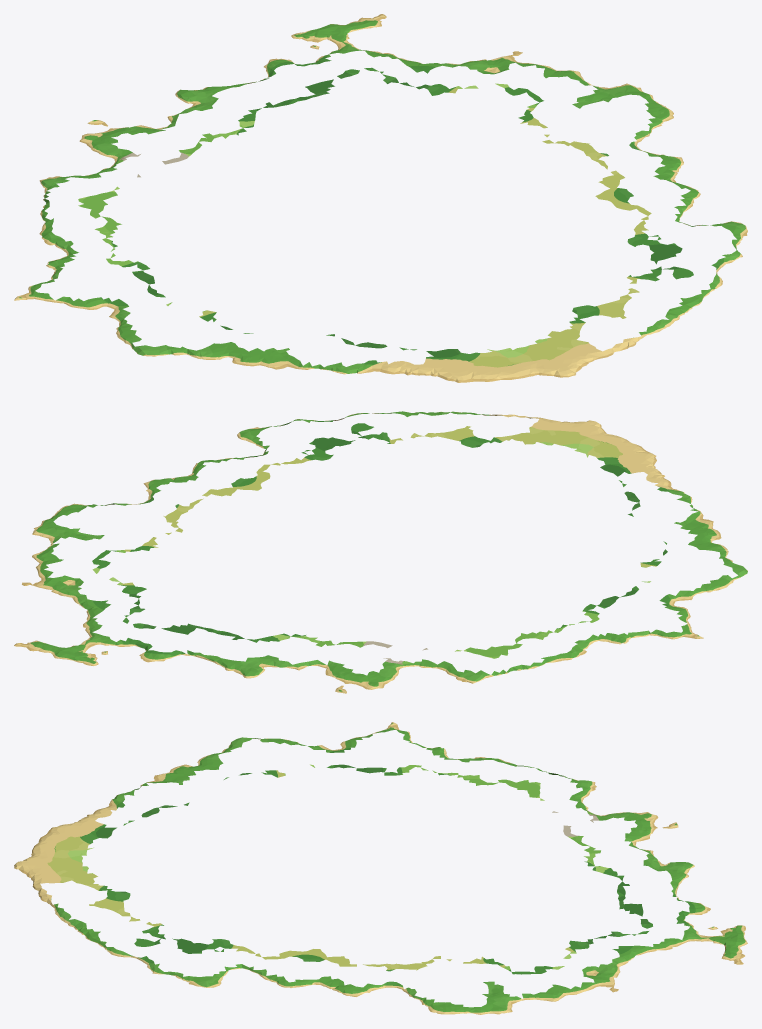
The model's file is Isl-rocky5-Ground.fbx.
The picture shows the model from 3 angles, top to bottom: view 1: azimuth 30°, elevation 25°; view 2: azimuth 150°, elevation 25°; view 3: azimuth 270°, elevation 25°; orthographic projection. The views are drawn at different scales.
Parts seen in each view (by area): view 1: Isl-rocky5-Ground-c11, Isl-rocky5-Ground-c21, Isl-rocky5-Ground-c22, Isl-rocky5-Ground-c12, Isl-rocky5-Ground-c10, Isl-rocky5-Ground-c20, Isl-rocky5-Ground-c23, Isl-rocky5-Ground-c32; view 2: Isl-rocky5-Ground-c22, Isl-rocky5-Ground-c12, Isl-rocky5-Ground-c21, Isl-rocky5-Ground-c11, Isl-rocky5-Ground-c10, Isl-rocky5-Ground-c20, Isl-rocky5-Ground-c23, Isl-rocky5-Ground-c32; view 3: Isl-rocky5-Ground-c22, Isl-rocky5-Ground-c21, Isl-rocky5-Ground-c11, Isl-rocky5-Ground-c12, Isl-rocky5-Ground-c10, Isl-rocky5-Ground-c20, Isl-rocky5-Ground-c32, Isl-rocky5-Ground-c23.
Boxes of the visible parts, x1,y1,x2,y2 form: Isl-rocky5-Ground-c11: (43, 265, 529, 375); Isl-rocky5-Ground-c21: (530, 148, 747, 348); Isl-rocky5-Ground-c22: (180, 43, 651, 156); Isl-rocky5-Ground-c12: (30, 90, 238, 290); Isl-rocky5-Ground-c10: (425, 345, 568, 382); Isl-rocky5-Ground-c20: (534, 309, 687, 376); Isl-rocky5-Ground-c23: (268, 14, 386, 63); Isl-rocky5-Ground-c32: (567, 70, 673, 132); Isl-rocky5-Ground-c22: (22, 500, 301, 677); Isl-rocky5-Ground-c12: (245, 607, 680, 693); Isl-rocky5-Ground-c21: (143, 411, 564, 510); Isl-rocky5-Ground-c11: (562, 444, 747, 627); Isl-rocky5-Ground-c10: (561, 421, 656, 468); Isl-rocky5-Ground-c20: (431, 411, 594, 443); Isl-rocky5-Ground-c23: (14, 640, 156, 665); Isl-rocky5-Ground-c32: (32, 503, 112, 561); Isl-rocky5-Ground-c22: (390, 862, 705, 998); Isl-rocky5-Ground-c21: (75, 863, 392, 996); Isl-rocky5-Ground-c11: (75, 731, 392, 863); Isl-rocky5-Ground-c12: (392, 730, 693, 865); Isl-rocky5-Ground-c10: (15, 820, 82, 864); Isl-rocky5-Ground-c20: (14, 863, 82, 931); Isl-rocky5-Ground-c32: (414, 994, 563, 1014); Isl-rocky5-Ground-c23: (702, 906, 747, 964).
Bounding box in the file's own units: 116 × 0.4897 × 123.
